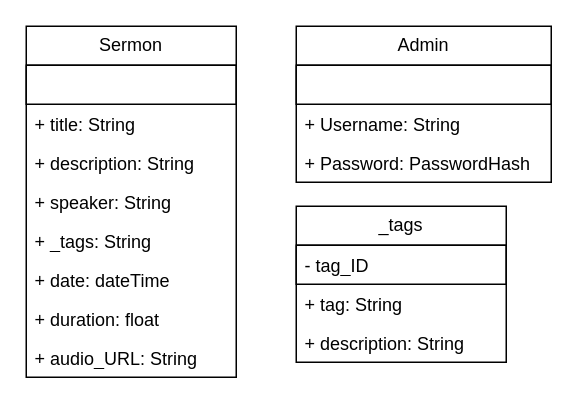
Some shapes in this 578 by 408 pixel diagram are drawn without their labels. Each missing label, with the centre of its shape:
"- admin_ID: Int" goes at (x=423, y=84).
"- sermon_ID: int" goes at (x=130, y=84).
